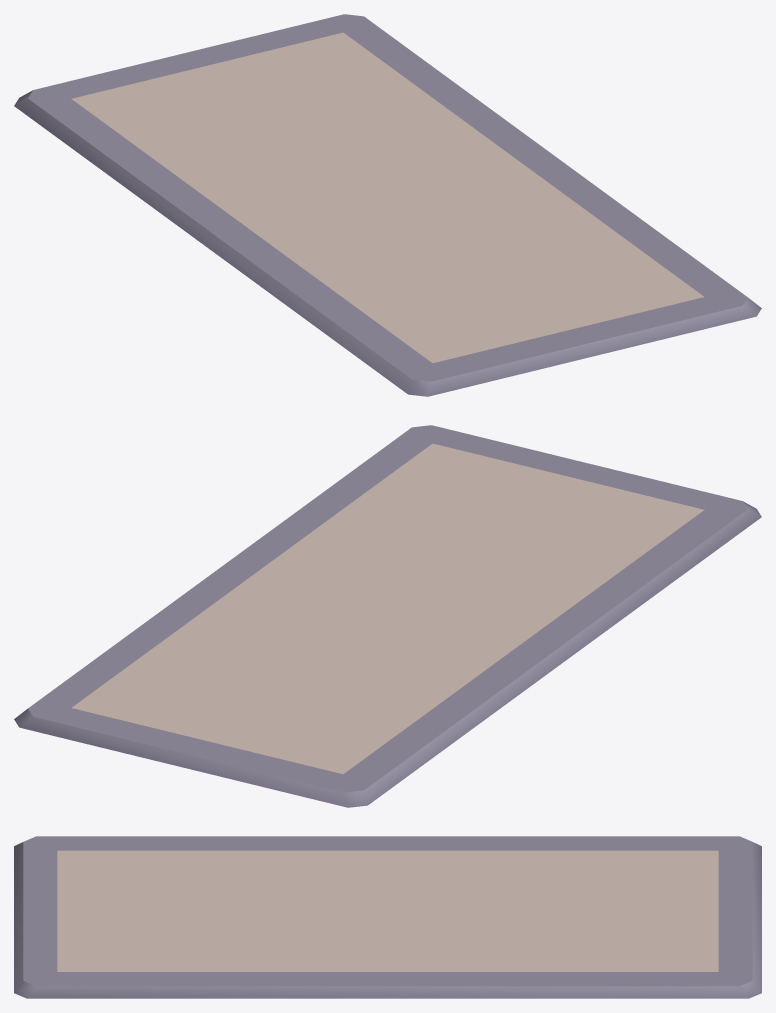
The model's file is carpet-tatami-long.glb.
3 views of the same model, one above another, from view 1: azimuth 30°, elevation 25°; view 2: azimuth 150°, elevation 25°; view 3: azimuth 270°, elevation 25° (orthographic). The views are drawn at different scales.
Visible parts, largest first — view 1: carpet-tatami-long; view 2: carpet-tatami-long; view 3: carpet-tatami-long.
Part boxes in pixels (x1,y1,x2,y2): carpet-tatami-long: (14,14,761,396); carpet-tatami-long: (14,425,761,807); carpet-tatami-long: (14,836,761,998).
Size of the model in its own units: 1 by 0.025 by 2.
